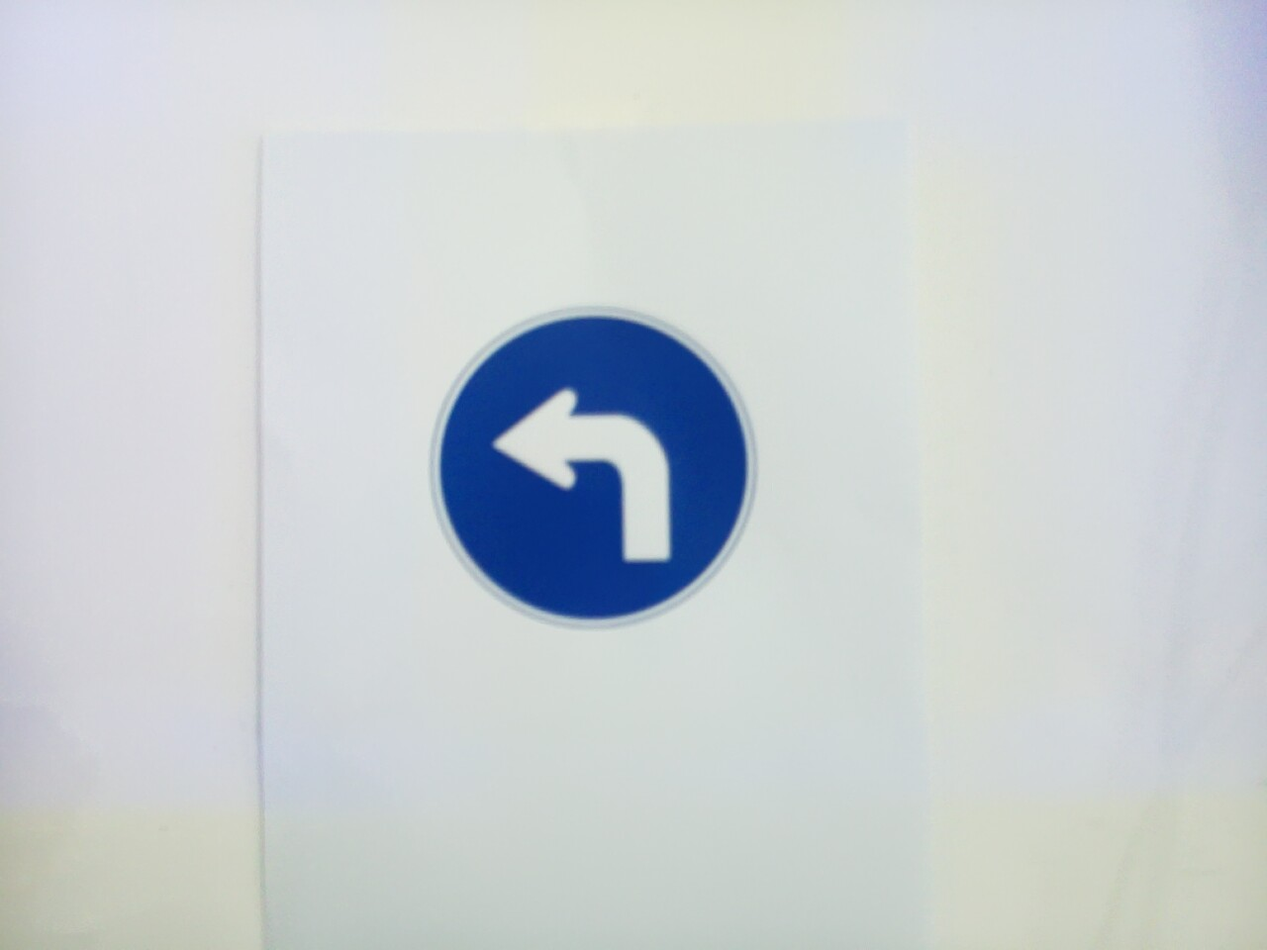left_turn: (430, 306, 757, 629)
